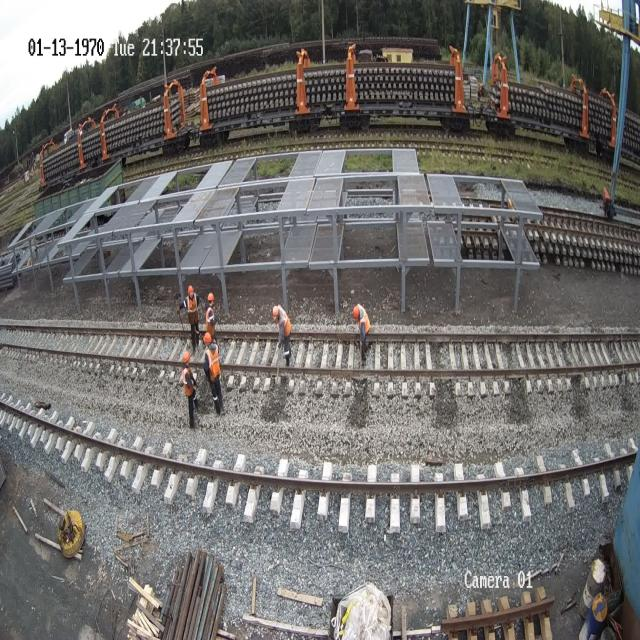Helmet: (352, 305, 359, 318), (203, 332, 211, 343), (183, 351, 190, 363), (207, 292, 214, 302), (272, 306, 278, 316), (188, 285, 194, 295)
Person: (202, 332, 225, 416), (179, 284, 200, 355), (182, 351, 198, 428), (272, 304, 291, 366), (352, 303, 371, 361), (205, 292, 217, 344)
